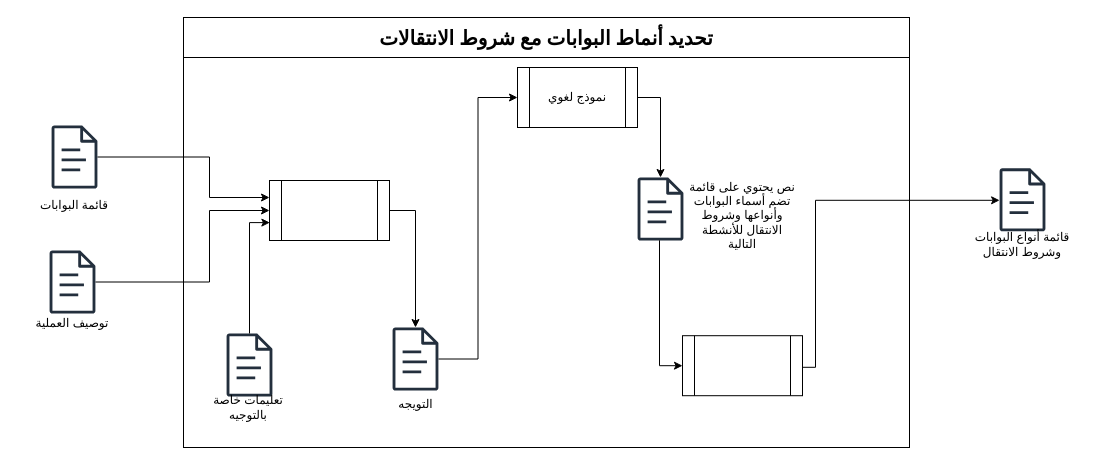
Image size: 1094x465. Some labels were removed from this diagram. The centre of each missing label's shape, as x and y in pixels:
"باني التوجيه" belongs at point (329, 210).
"محلل" belongs at point (742, 365).
